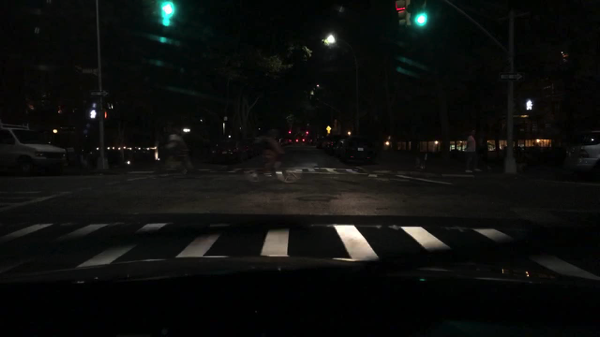bike: (243, 154, 301, 188)
car: (0, 125, 71, 176), (81, 154, 135, 171), (209, 136, 243, 162), (339, 143, 374, 164), (238, 137, 256, 157), (250, 137, 264, 155), (326, 143, 340, 153), (316, 142, 326, 152), (129, 145, 141, 153), (273, 138, 283, 146), (262, 138, 273, 145), (283, 138, 292, 146), (118, 145, 126, 152), (96, 145, 105, 151), (311, 138, 317, 146), (107, 145, 114, 151), (305, 137, 311, 144)
person: (463, 128, 483, 174)
rider: (263, 137, 288, 183)
traffic light: (397, 1, 415, 35), (411, 0, 429, 29), (160, 0, 175, 26), (393, 1, 407, 14), (99, 110, 108, 121), (525, 97, 532, 111), (89, 109, 96, 120), (287, 130, 291, 134), (305, 131, 308, 135), (295, 139, 298, 143), (288, 139, 291, 142), (302, 139, 305, 142)
traffic sign: (564, 128, 600, 180), (498, 72, 526, 81), (89, 88, 109, 96), (82, 68, 98, 75), (326, 125, 331, 134)
